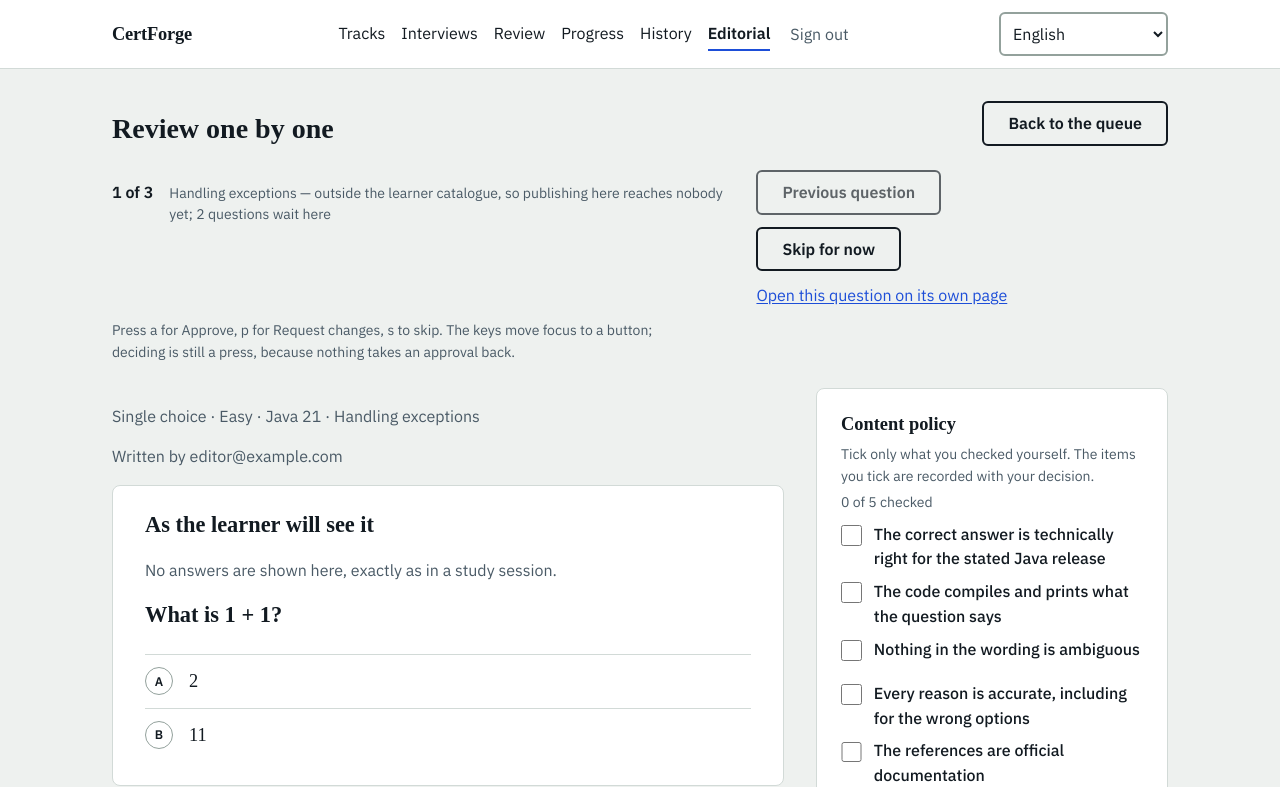
Test case: the review worklist › keeps one topic together instead of following the queue's order
Expected: the text "What is 1 + 1?" is shown, 145,602 -> 282,627
Click the button "Skip for now".
click(829, 249)  # box 756,227 -> 901,271
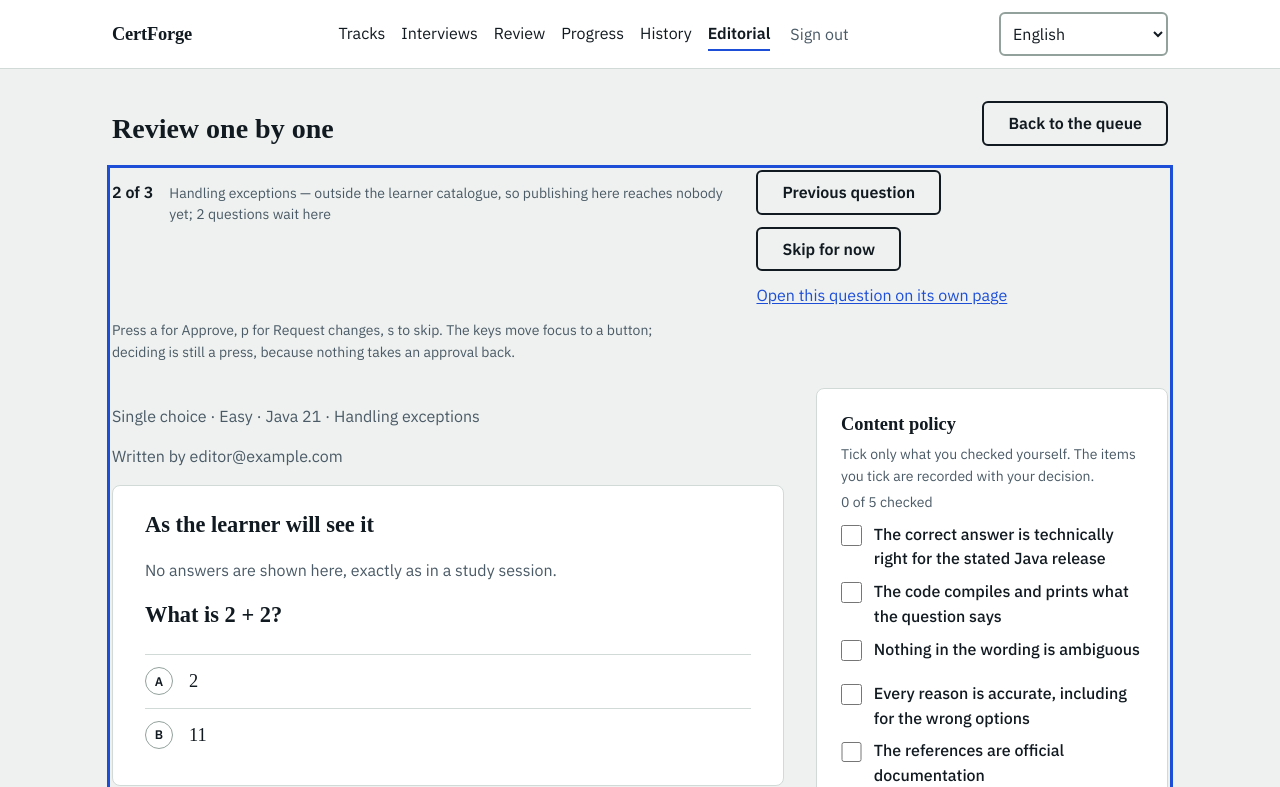
Result: the text "What is 2 + 2?" is shown at 145,602 -> 282,627
